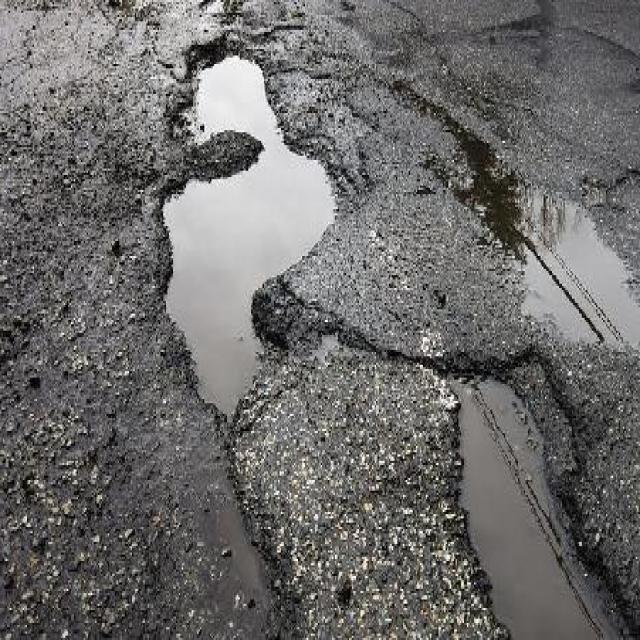pothole: (108, 28, 369, 439), (154, 28, 347, 427), (404, 317, 640, 640), (423, 341, 640, 638)
